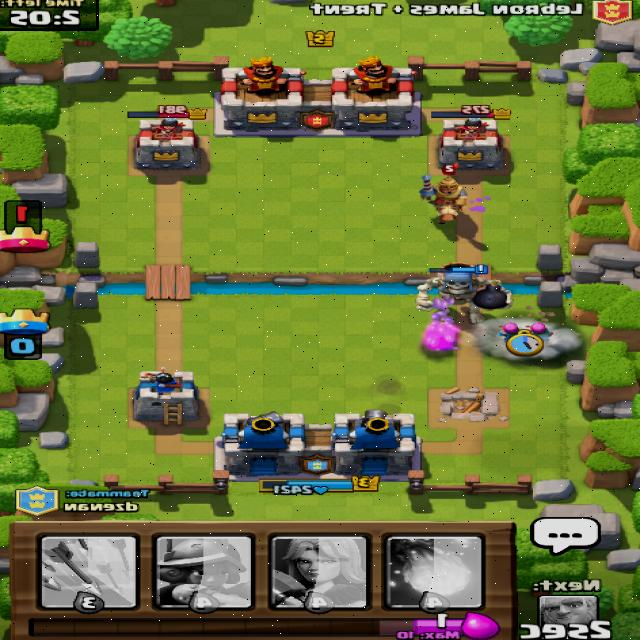Enemy-Prince: (419, 162, 472, 225)
Player-Archer: (496, 321, 525, 341), (527, 321, 556, 339)
Player-GiantSkeleton: (415, 262, 517, 324)
